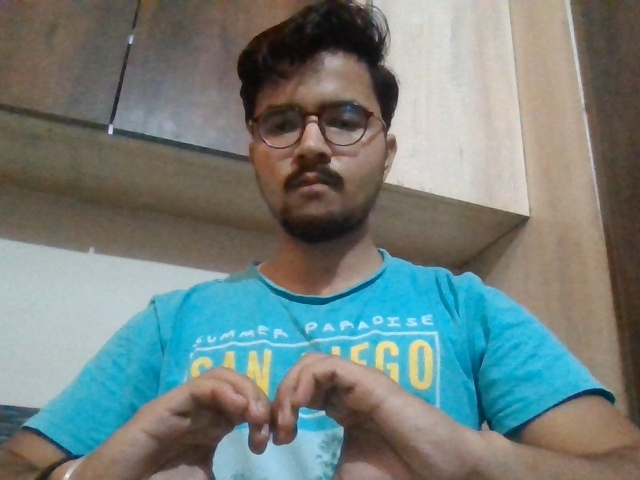iloveyou: (116, 364, 464, 480)
